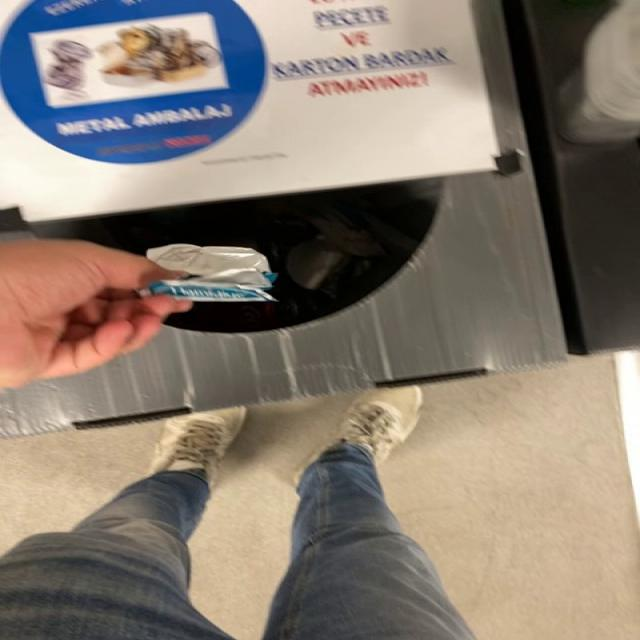bin: (0, 0, 564, 436)
metal: (139, 244, 276, 302)
